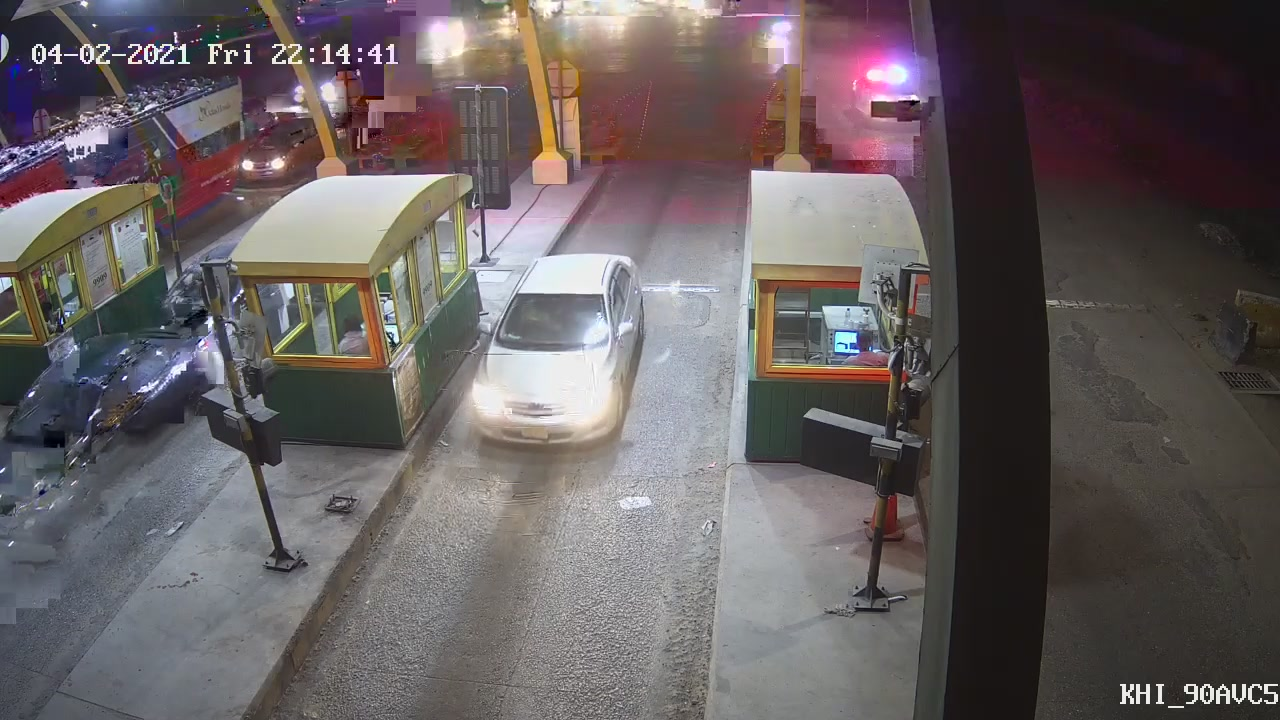F1: (466, 246, 650, 459)
